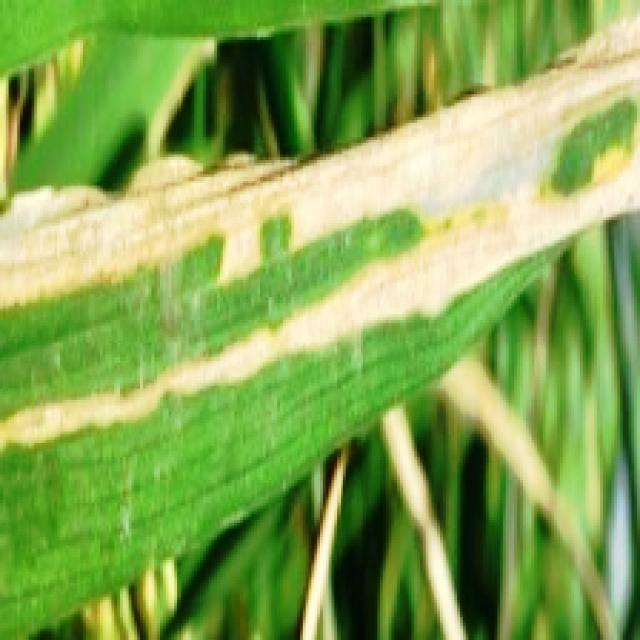unhealth: (0, 48, 640, 537)
